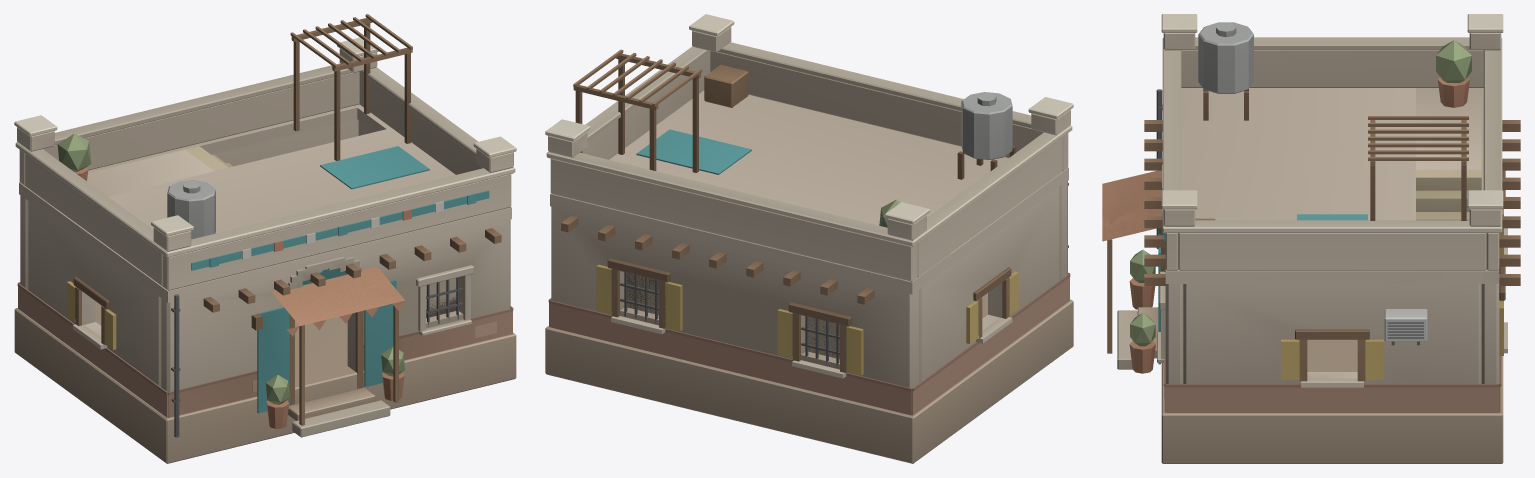
The model's file is house_4.glb.
The picture shows the model from 3 angles, left to right: view 1: azimuth 30°, elevation 25°; view 2: azimuth 150°, elevation 25°; view 3: azimuth 270°, elevation 25°; orthographic projection. The views are drawn at different scales.
Visible parts, largest first — view 1: house_4; view 2: house_4; view 3: house_4.
Part boxes in pixels (x1,y1,x2,y2): house_4: (14,14,516,463); house_4: (545,14,1073,463); house_4: (1102,14,1520,463).
Bounding box in the file's own units: 9.44 × 6.54 × 8.27.
